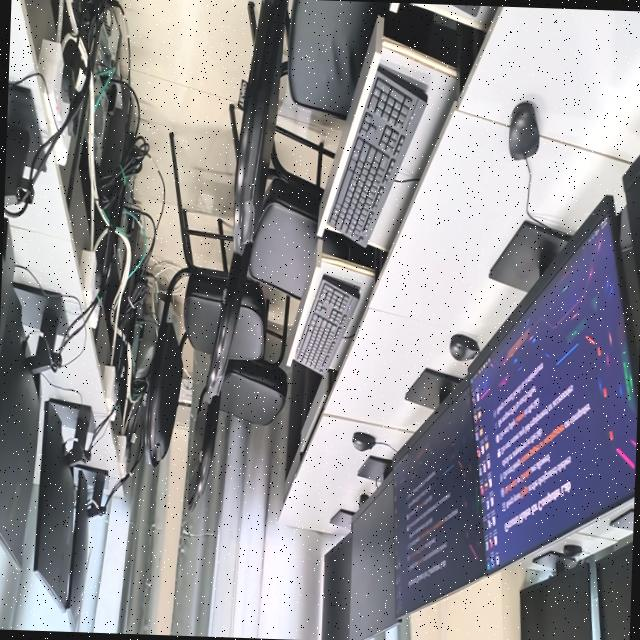Chair: (233, 0, 388, 261), (205, 143, 323, 406), (144, 139, 230, 468), (187, 305, 287, 511), (228, 278, 267, 360)
Cpu: (79, 1, 123, 192), (105, 151, 140, 292)
Keyboard: (325, 66, 426, 246), (295, 275, 359, 374), (449, 4, 480, 16)
Monitor: (468, 196, 637, 572), (392, 368, 486, 617), (0, 291, 58, 568), (33, 399, 93, 610), (0, 85, 40, 357), (349, 457, 397, 640), (520, 545, 592, 640), (67, 470, 107, 632), (596, 519, 633, 640), (321, 510, 353, 640), (622, 154, 640, 300)
Mouse: (508, 102, 539, 160), (449, 334, 479, 361), (352, 432, 375, 451), (563, 545, 583, 559), (359, 494, 368, 508)
